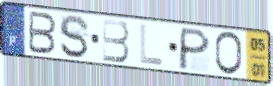B: (27, 9, 58, 56), (101, 18, 131, 64)
L: (139, 23, 165, 68)
O: (214, 30, 244, 78)
P: (177, 26, 212, 72)
S: (58, 14, 91, 61)
